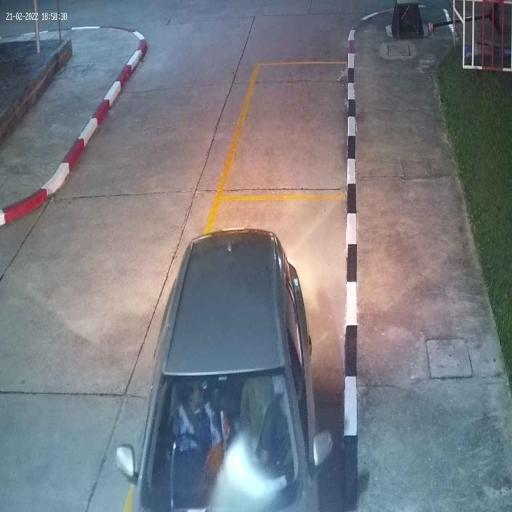car: (131, 227, 320, 512)
